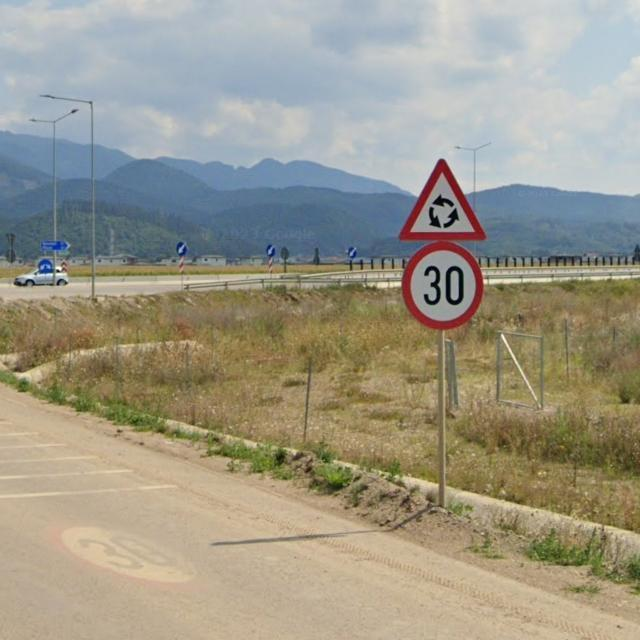forb_speed_over_30: (47, 512, 209, 591), (401, 240, 488, 332)
